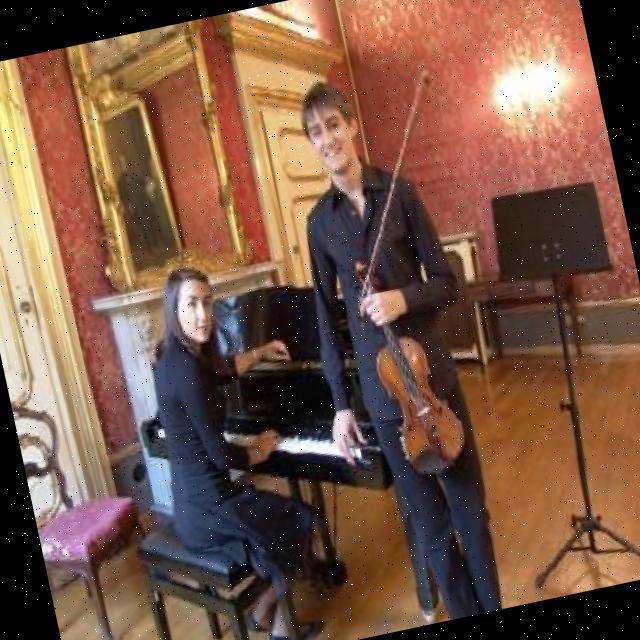violin: (346, 244, 475, 482)
